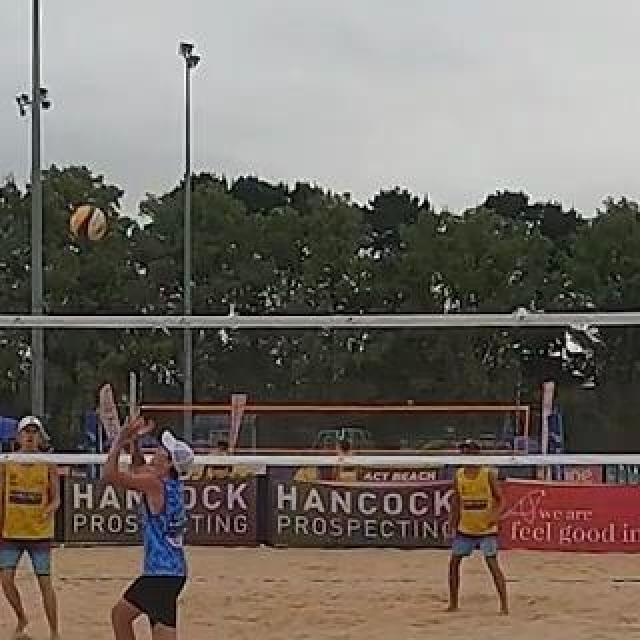volleyball: (71, 203, 107, 239)
